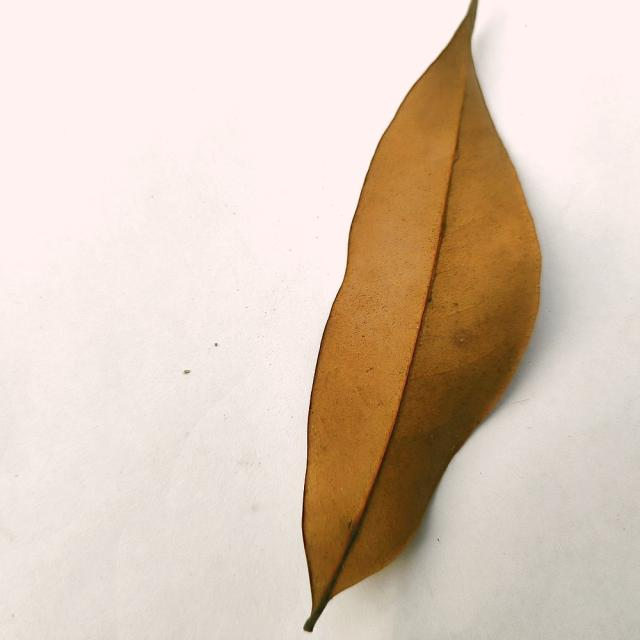Dry_Leaf-Lychee: (301, 0, 543, 632)
